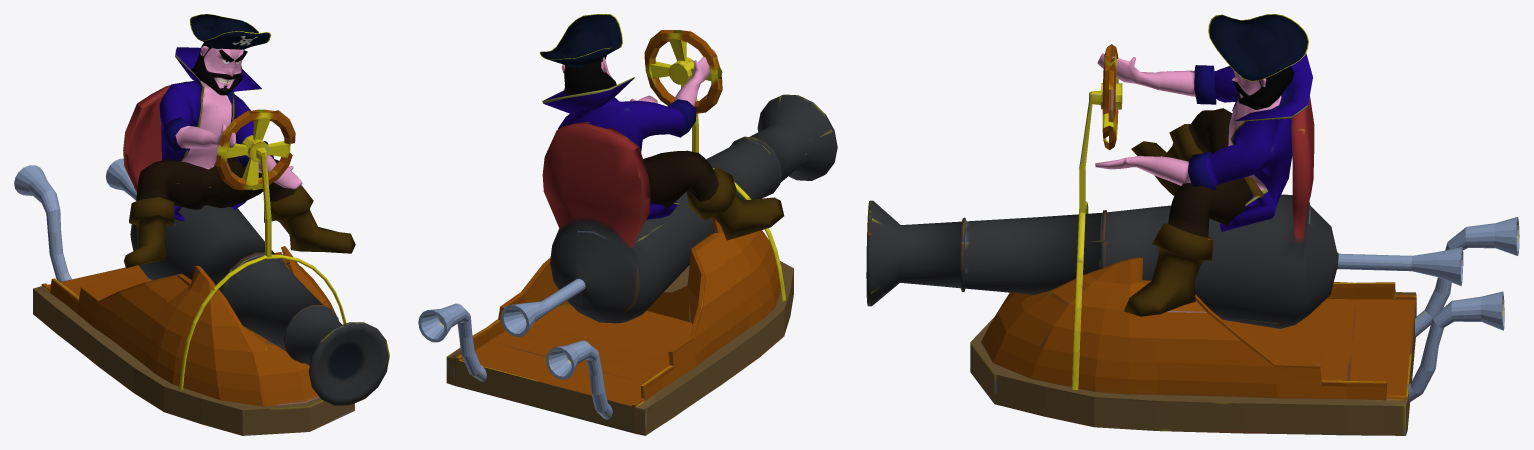
File: pirataGiroDER_000370.obj
The picture shows the model from 3 angles, left to right: view 1: azimuth 30°, elevation 25°; view 2: azimuth 150°, elevation 25°; view 3: azimuth 270°, elevation 25°; orthographic projection. The views are drawn at different scales.
Parts seen in each view (by area): view 1: carro_pirata, Pirata_PirataH; view 2: carro_pirata, Pirata_PirataH; view 3: carro_pirata, Pirata_PirataH.
Boxes of the visible parts, x1=… form: carro_pirata: x1=14, y1=81, x2=389, y2=435; Pirata_PirataH: x1=124, y1=14, x2=355, y2=268; carro_pirata: x1=418, y1=30, x2=837, y2=435; Pirata_PirataH: x1=540, y1=14, x2=784, y2=240; carro_pirata: x1=866, y1=44, x2=1519, y2=435; Pirata_PirataH: x1=1095, y1=14, x2=1312, y2=316.
Bounding box in the file's own units: 5.68 × 7.62 × 12.1.
